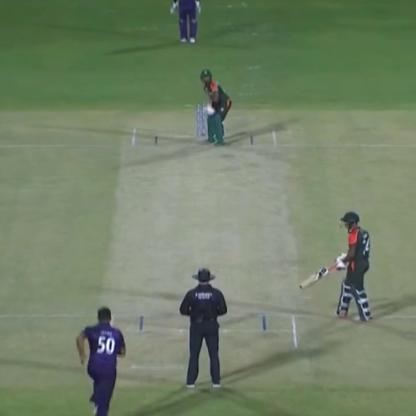bat: (298, 260, 335, 294)
pitch: (112, 131, 294, 361)
